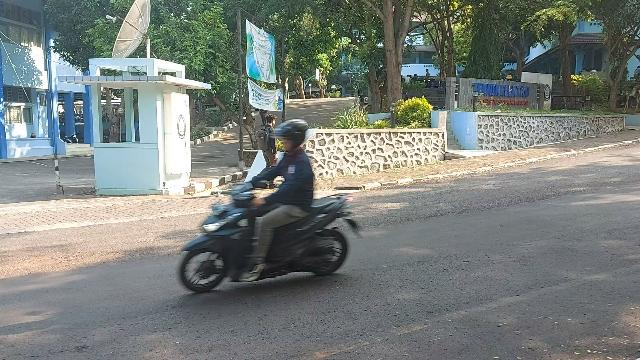helm: (272, 121, 311, 153)
motor: (181, 179, 363, 295)
